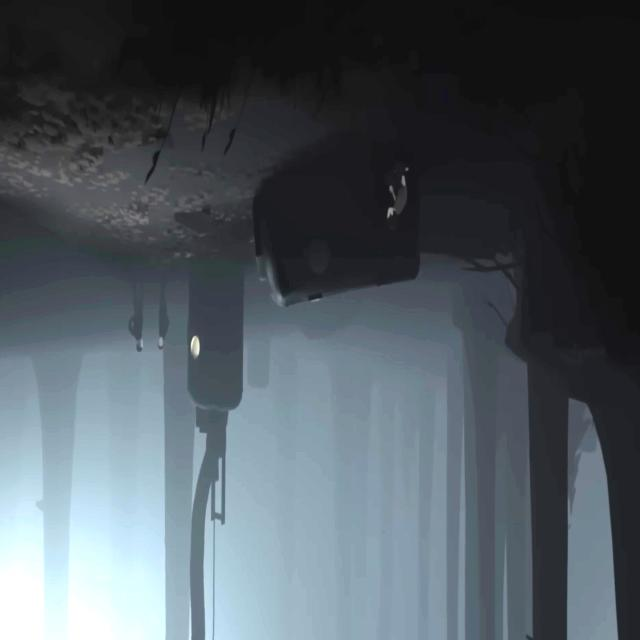boy: (387, 166, 410, 227)
